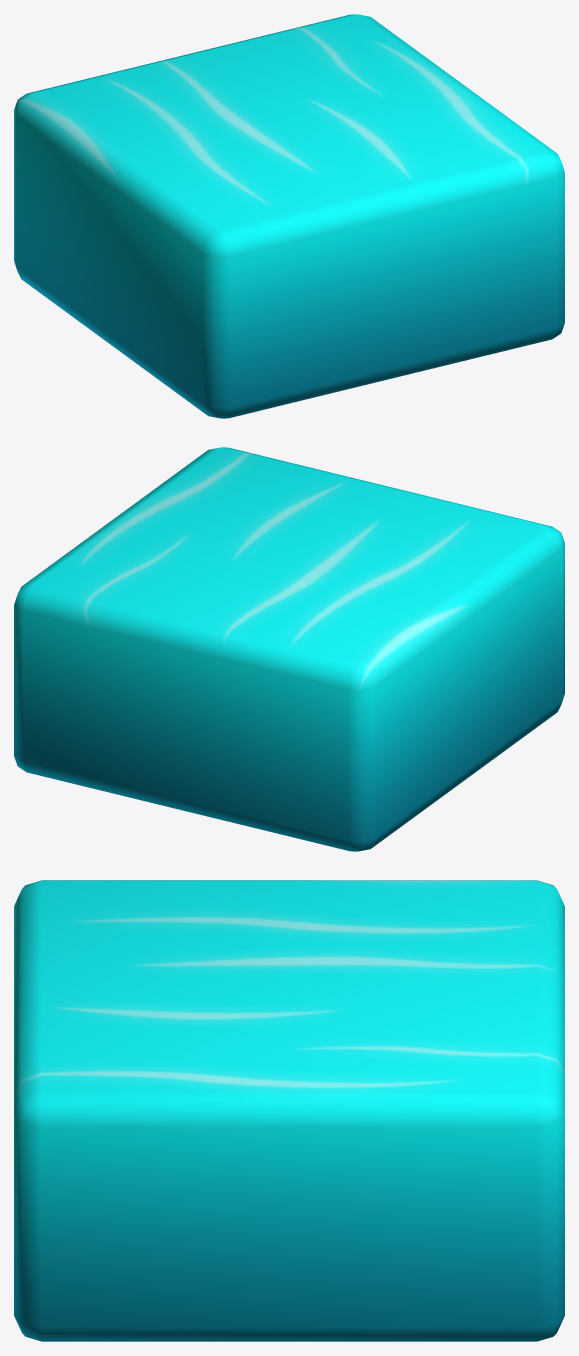
The model's file is 3D_Tile_Water_01A.glb.
3 renders of one model, top to bottom at view 1: azimuth 30°, elevation 25°; view 2: azimuth 150°, elevation 25°; view 3: azimuth 270°, elevation 25°, orthographic. The views are drawn at different scales.
Parts seen in each view (by area): view 1: 3D_Tile_Water_01A; view 2: 3D_Tile_Water_01A; view 3: 3D_Tile_Water_01A.
Boxes of the visible parts, x1,y1,x2,y2 form: 3D_Tile_Water_01A: [14, 14, 564, 418]; 3D_Tile_Water_01A: [14, 447, 564, 851]; 3D_Tile_Water_01A: [14, 880, 564, 1341].
Size of the model in its own units: 2 by 1 by 2.
1 material, 1 textured.
